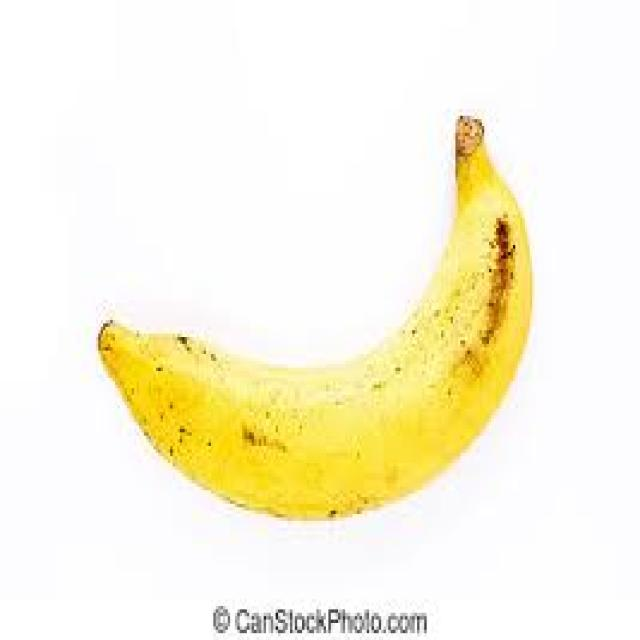non_orange: (98, 114, 537, 526)
